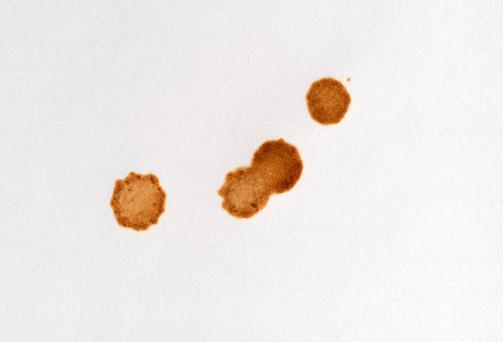stain: (214, 135, 310, 222), (107, 172, 173, 236), (302, 73, 355, 124)
